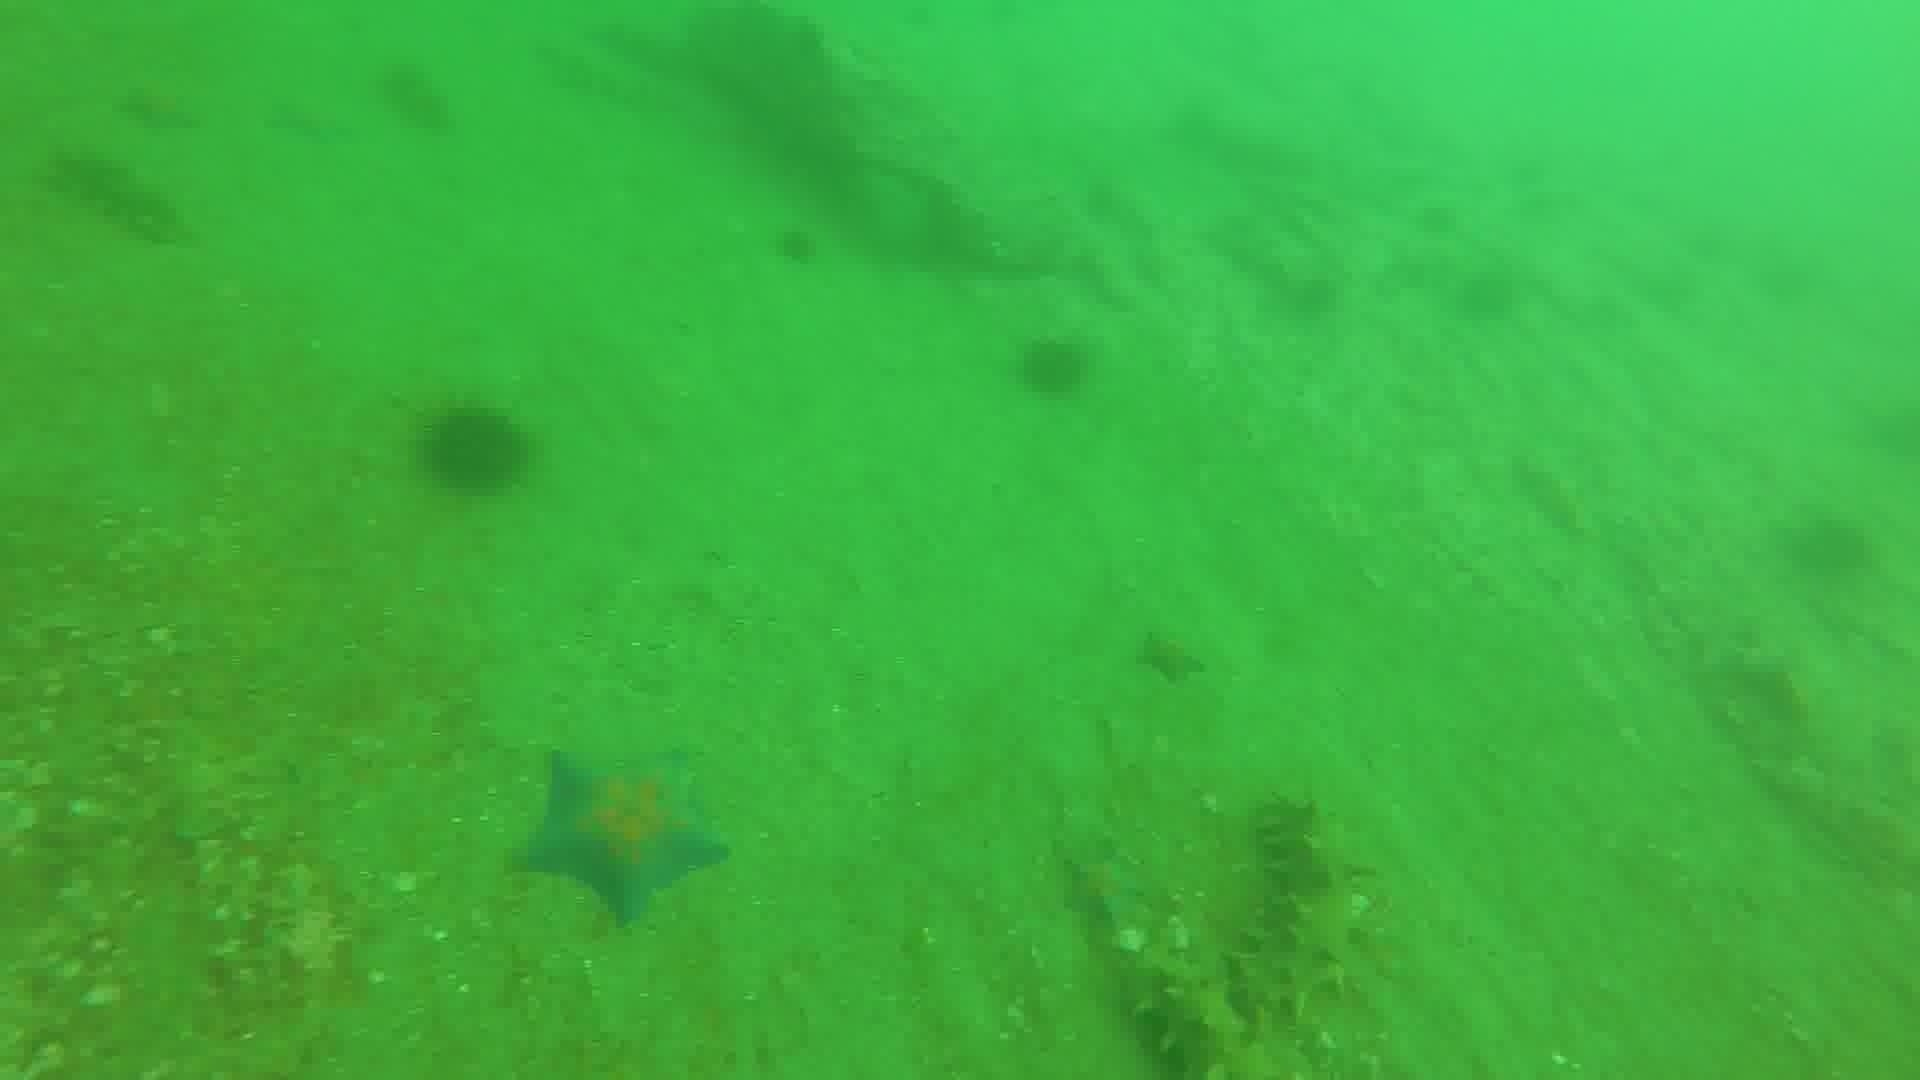echinus: (415, 400, 535, 500), (1780, 506, 1876, 585), (373, 57, 459, 138), (1011, 331, 1095, 402), (1451, 264, 1523, 327), (767, 222, 824, 270)
holothurian: (1230, 789, 1371, 1023), (1113, 942, 1245, 1075), (38, 138, 195, 249)
starfish: (510, 742, 732, 928), (1056, 837, 1156, 934), (260, 84, 365, 148), (112, 76, 206, 136), (1131, 626, 1211, 688)
